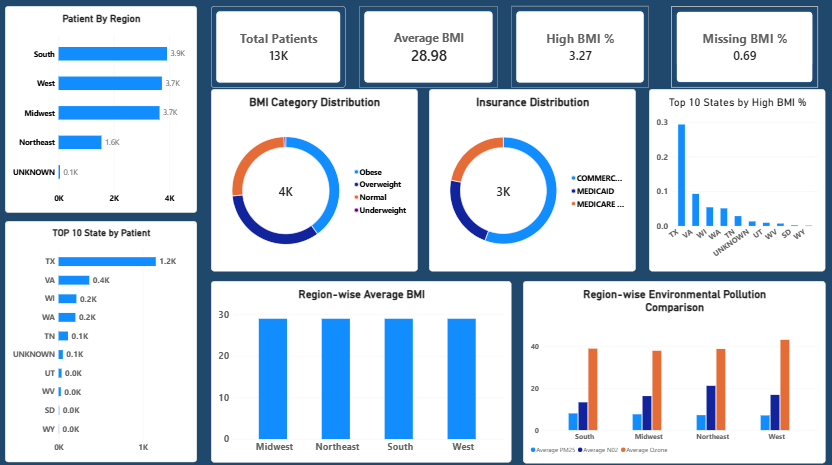

Layout of this report page (visuals, bound fields, positions):
{"tool":"powerbi","page":{"name":"Healthcare Patient Analytics Dashboard","canvas":[1920,1080],"ordinal":0},"visuals":[{"type":"cardVisual","fields":{"Data":["healthcare_db healthcare_patients.Total Patients"]},"box":[491.4,15.9,309.1,188.2],"z":0},{"type":"cardVisual","fields":{"Data":["healthcare_db healthcare_patients.Average BMI"]},"box":[832.2,15.9,319,188.2],"z":1000},{"type":"cardVisual","fields":{"Data":["healthcare_db healthcare_patients.High BMI %"]},"box":[1180.9,15.9,317,188.2],"z":2000},{"type":"cardVisual","fields":{"Data":["healthcare_db healthcare_patients.Missing BMI %"]},"box":[1547.5,15.9,338.8,188.2],"z":3000},{"type":"clusteredBarChart","title":"Patient By Region","fields":{"Category":["healthcare_db healthcare_patients.Region"],"Y":["healthcare_db healthcare_patients.Total Patients"]},"box":[19.2,16.8,441,474.6],"z":4000},{"type":"clusteredBarChart","title":"TOP 10 State by Patient","fields":{"Category":["healthcare_db healthcare_patients.patient_state"],"Y":["healthcare_db healthcare_patients.Total Patients"]},"box":[19.2,510.6,441,553.7],"z":5000},{"type":"donutChart","title":"BMI Category Distribution","fields":{"Category":["healthcare_db healthcare_patients.BMI Category"],"Y":["healthcare_db healthcare_patients.Total Patients"]},"box":[491.4,206.1,474.6,419.5],"z":6000},{"type":"donutChart","title":"Insurance Distribution","fields":{"Category":["healthcare_db healthcare_patients.payer_type"],"Y":["healthcare_db healthcare_patients.Total Patients"]},"box":[992.4,206.1,474.6,419.5],"z":6001},{"type":"clusteredColumnChart","title":"Region-wise Average BMI","fields":{"Category":["healthcare_db healthcare_patients.Region"],"Y":["healthcare_db healthcare_patients.Average BMI"]},"box":[491.4,647.2,690.3,417.1],"z":6002},{"type":"clusteredColumnChart","title":"Region-wise Environmental Pollution Comparison","fields":{"Category":["healthcare_db healthcare_patients.Region"],"Y":["healthcare_db healthcare_patients.Average PM25","healthcare_db healthcare_patients.Average N02","healthcare_db healthcare_patients.Average Ozone"]},"box":[1208.1,647.2,695.1,419.5],"z":6003},{"type":"clusteredColumnChart","title":"Top 10 States by High BMI %","fields":{"Category":["healthcare_db healthcare_patients.patient_state"],"Y":["healthcare_db healthcare_patients.High BMI %"]},"box":[1498.1,206.1,405.1,419.5],"z":6004}]}

Visuals, with their boxes in screenshot pixels (x1, y1, x2, y2), scaled from the page's 1920x1080 canvas onto the 832x465 screenshot:
cardVisual - healthcare_db healthcare_patients.Total Patients: region(213, 7, 347, 88)
cardVisual - healthcare_db healthcare_patients.Average BMI: region(361, 7, 499, 88)
cardVisual - healthcare_db healthcare_patients.High BMI %: region(512, 7, 649, 88)
cardVisual - healthcare_db healthcare_patients.Missing BMI %: region(671, 7, 817, 88)
"Patient By Region" clusteredBarChart: region(8, 7, 199, 212)
"TOP 10 State by Patient" clusteredBarChart: region(8, 220, 199, 458)
"BMI Category Distribution" donutChart: region(213, 89, 419, 269)
"Insurance Distribution" donutChart: region(430, 89, 636, 269)
"Region-wise Average BMI" clusteredColumnChart: region(213, 279, 512, 458)
"Region-wise Environmental Pollution Comparison" clusteredColumnChart: region(524, 279, 825, 459)
"Top 10 States by High BMI %" clusteredColumnChart: region(649, 89, 825, 269)
